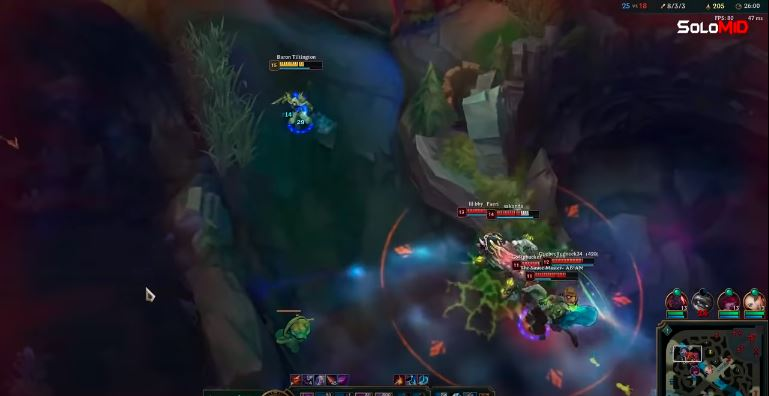bar: (265, 58, 328, 73), (525, 265, 580, 281), (510, 259, 572, 271), (486, 208, 542, 221), (541, 257, 598, 268), (455, 206, 517, 216)
